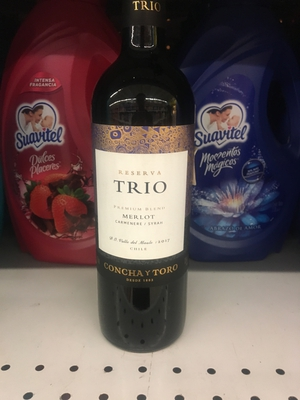trio merlot: (88, 18, 198, 323)
